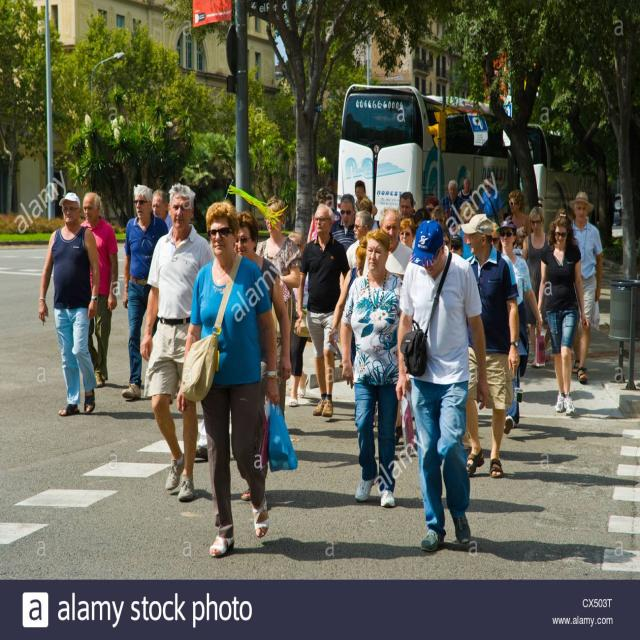body: (264, 416, 639, 568), (176, 199, 282, 559), (391, 216, 494, 554), (137, 180, 220, 504), (338, 225, 405, 509), (230, 208, 293, 501), (459, 212, 520, 480), (35, 190, 102, 420), (532, 206, 590, 419), (296, 202, 350, 419), (255, 196, 302, 422), (121, 183, 169, 401), (495, 218, 543, 436), (186, 232, 222, 466), (80, 191, 119, 389), (566, 189, 604, 387), (304, 185, 342, 361), (328, 235, 369, 372), (520, 205, 553, 368), (286, 229, 314, 407), (360, 205, 415, 282), (396, 191, 478, 227), (504, 188, 533, 251), (329, 192, 358, 253), (346, 208, 374, 271), (439, 178, 466, 230), (478, 175, 504, 226), (440, 226, 474, 264), (151, 187, 174, 234), (354, 179, 378, 218), (486, 218, 502, 264), (398, 217, 417, 250), (456, 177, 476, 202)
